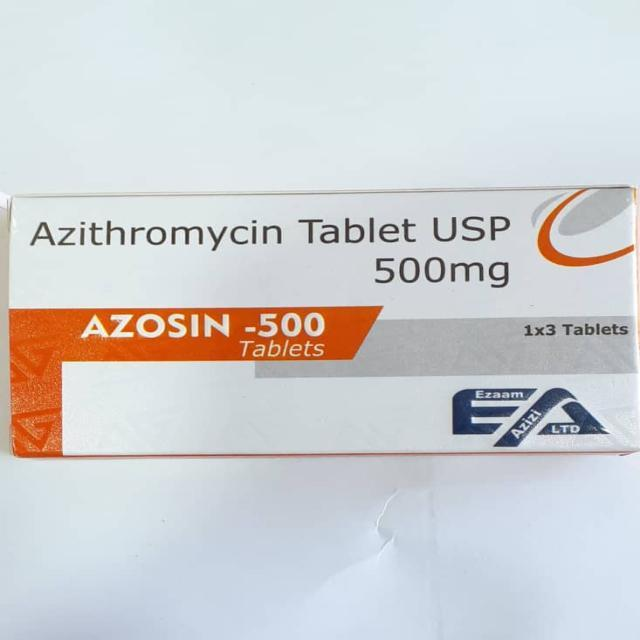drug-name: (81, 305, 343, 340)
